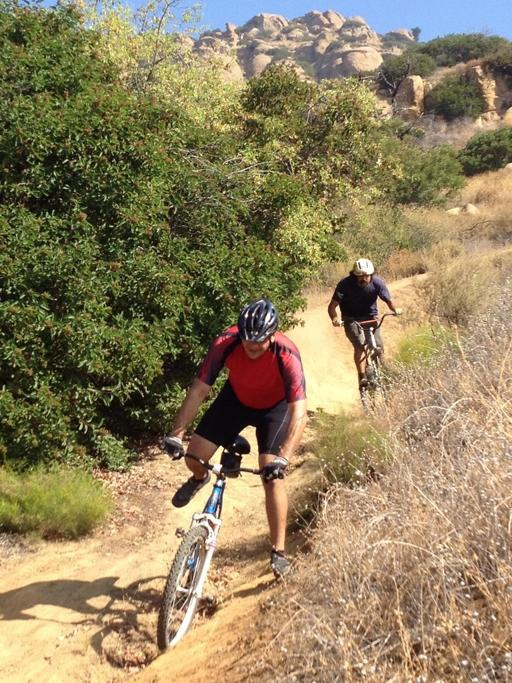non-vehicle: (156, 432, 287, 649), (337, 311, 398, 412)
